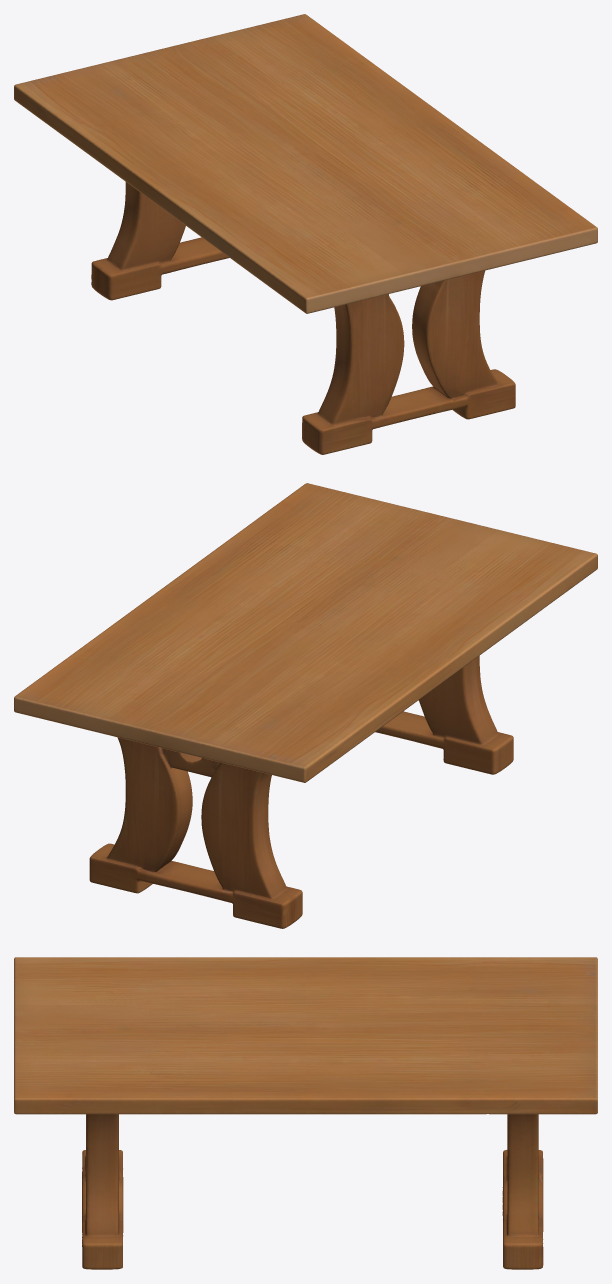
File: detailed_realistic_model_grandoaktable_16.glb
3 renders of one model, top to bottom at view 1: azimuth 30°, elevation 25°; view 2: azimuth 150°, elevation 25°; view 3: azimuth 270°, elevation 25°, orthographic.
Visible parts, largest first — view 1: tripo_node_d81d8009-c622-450c-adbc-c713e47186d2; view 2: tripo_node_d81d8009-c622-450c-adbc-c713e47186d2; view 3: tripo_node_d81d8009-c622-450c-adbc-c713e47186d2.
Boxes of the visible parts, box(x1,y1,x2,y2) form: tripo_node_d81d8009-c622-450c-adbc-c713e47186d2: box(14, 14, 597, 454); tripo_node_d81d8009-c622-450c-adbc-c713e47186d2: box(14, 483, 597, 928); tripo_node_d81d8009-c622-450c-adbc-c713e47186d2: box(14, 957, 597, 1269).
Bounding box in the file's own units: 0.5766 × 0.3676 × 1.
Materials: 1 (1 with a texture image).
